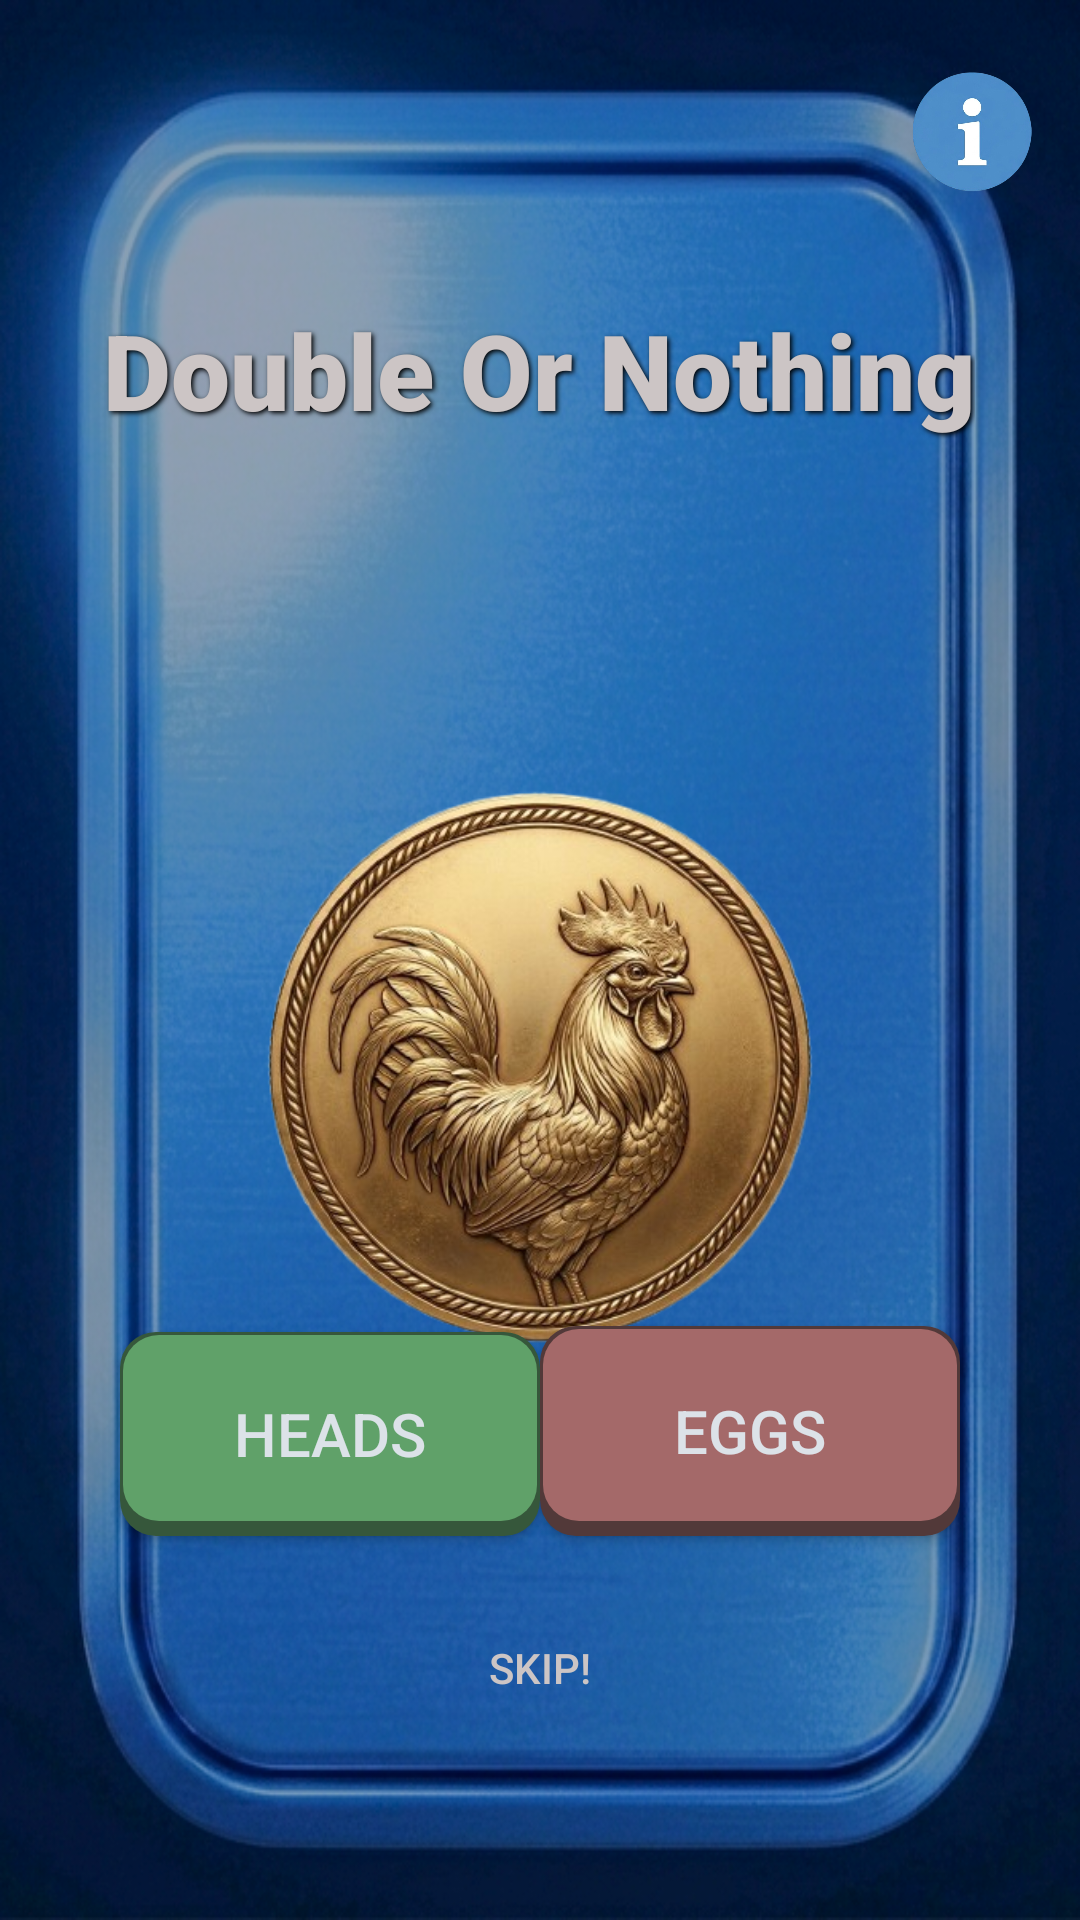

Icon bounding boxes for this 1080*1920 phone screenshot, format [x1, y1, x2, y2]:
info: [912, 72, 1032, 192]
